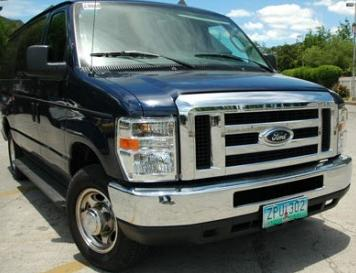front_view: (120, 95, 342, 225)
headlight: (108, 114, 192, 194)
side_glass: (15, 13, 88, 85)
